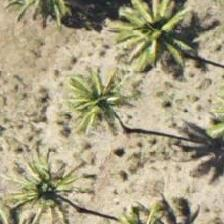coconut_tree: (53, 57, 143, 147), (10, 138, 100, 223), (111, 0, 201, 72)
